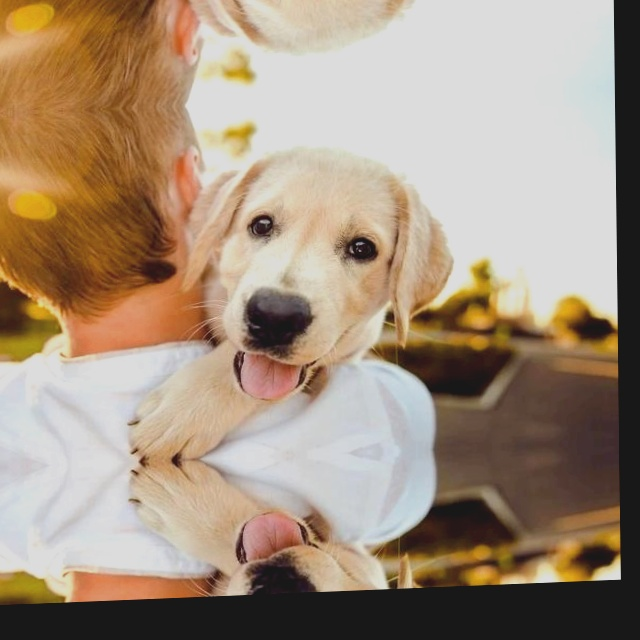dog: (187, 128, 467, 407), (192, 501, 469, 597), (185, 0, 463, 70)
